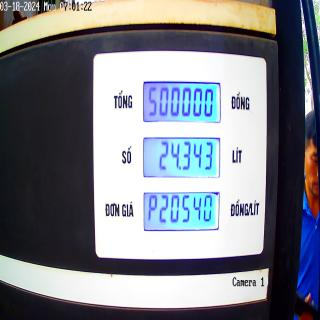screen: (141, 77, 222, 233)
